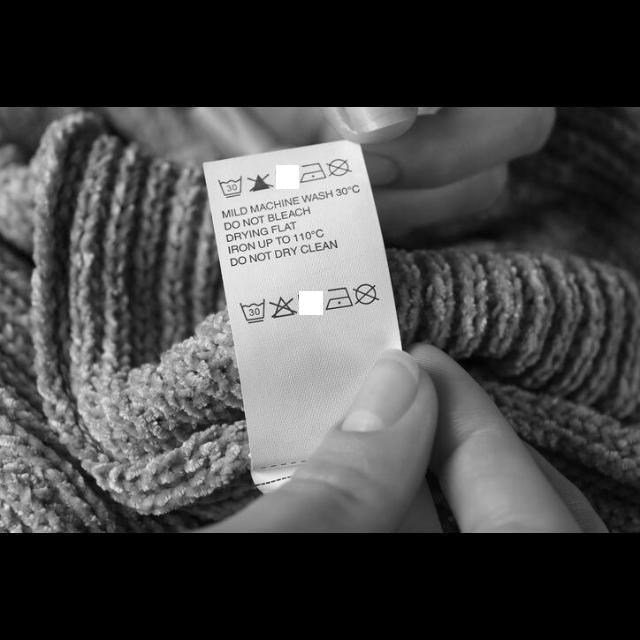30C: (237, 298, 267, 324), (216, 175, 244, 199)
DN_bleach: (268, 296, 298, 320), (246, 173, 274, 193)
DN_dry_clean: (352, 282, 380, 306), (326, 158, 354, 178)
iron_low: (324, 286, 354, 312), (299, 162, 327, 184)
